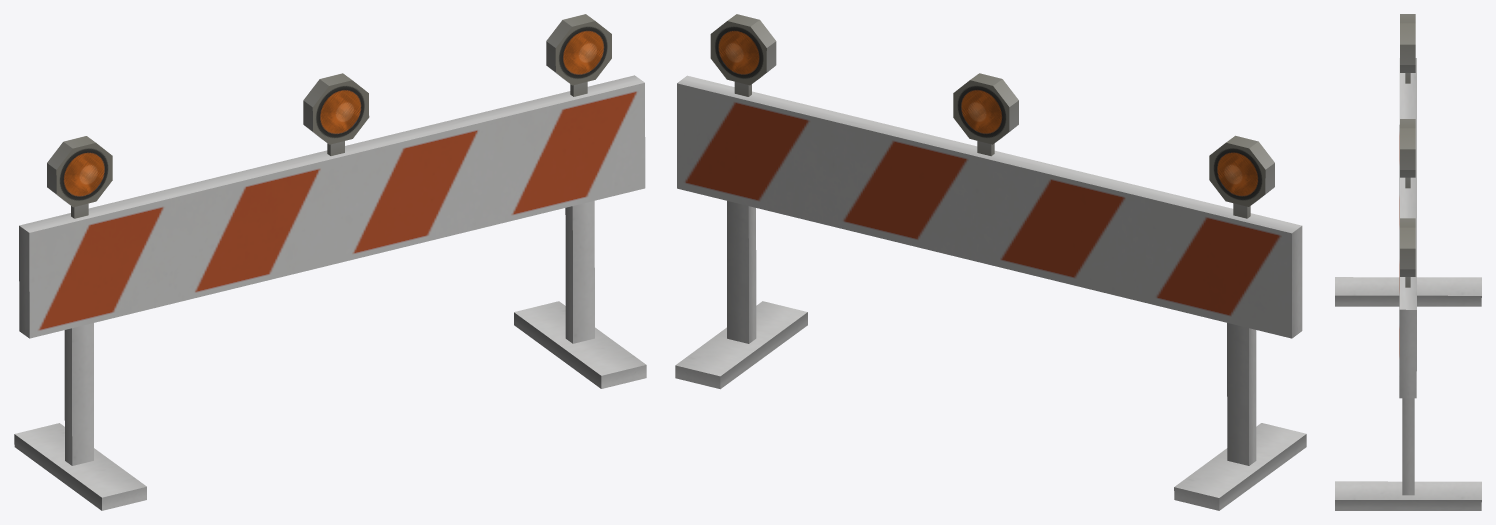
Rendered from barrier_13.fbx.
3 views of the same model, side by side, from view 1: azimuth 30°, elevation 25°; view 2: azimuth 150°, elevation 25°; view 3: azimuth 270°, elevation 25° (orthographic). The views are drawn at different scales.
Parts seen in each view (by area): view 1: barrier_13; view 2: barrier_13; view 3: barrier_13.
Boxes of the visible parts, x1,y1,x2,y2 form: barrier_13: (14,14,646,510); barrier_13: (675,14,1306,510); barrier_13: (1335,14,1481,510).
Size of the model in its own units: 6.98 by 3.6 by 1.72.
